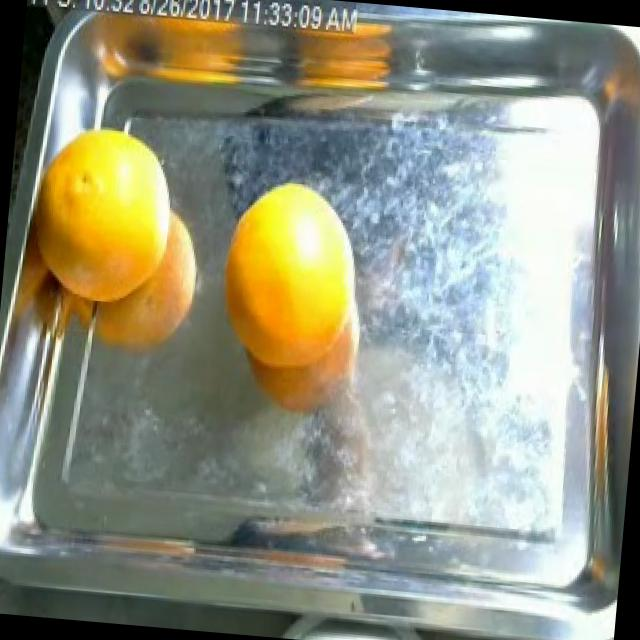Fruit: (201, 162, 379, 360)
